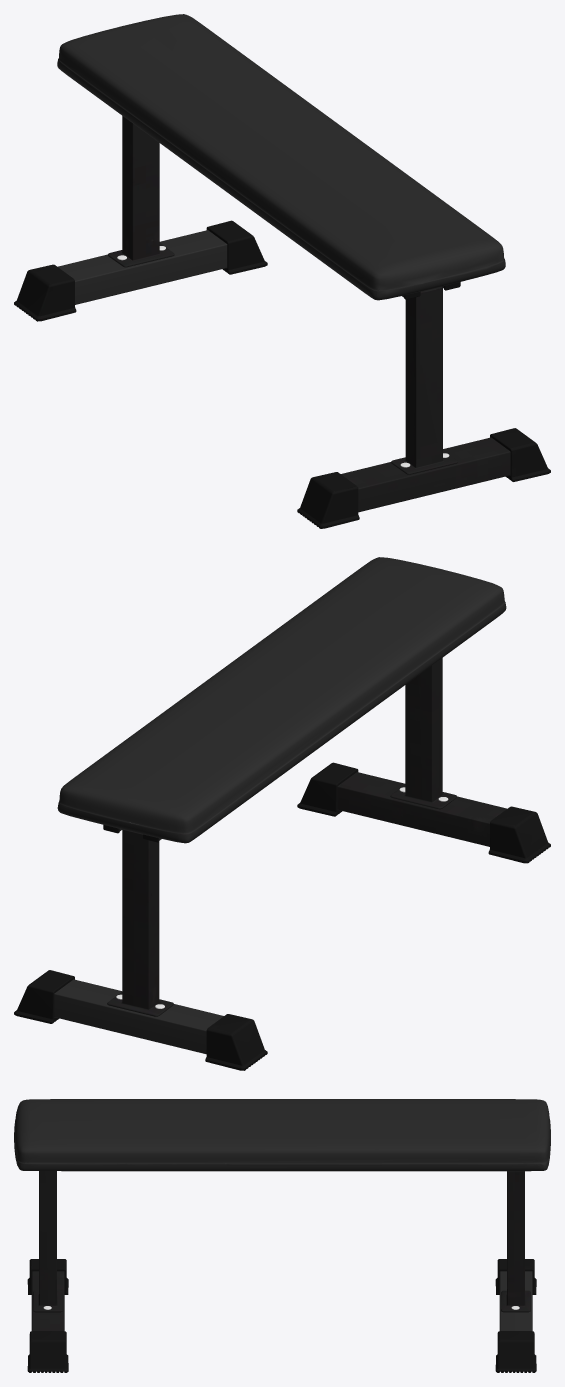
The model's file is play_equipment_abo_B072Z1WN4S.glb.
3 renders of one model, top to bottom at view 1: azimuth 30°, elevation 25°; view 2: azimuth 150°, elevation 25°; view 3: azimuth 270°, elevation 25°, orthographic. The views are drawn at different scales.
Visible parts, largest first — view 1: RootNode; view 2: RootNode; view 3: RootNode.
Part boxes in pixels (x1,y1,x2,y2): RootNode: (14,14,550,528); RootNode: (14,557,550,1070); RootNode: (14,1099,550,1372).
Bounding box in the file's own units: 0.4391 × 0.453 × 1.07.
Materials: 1 (1 with a texture image).
